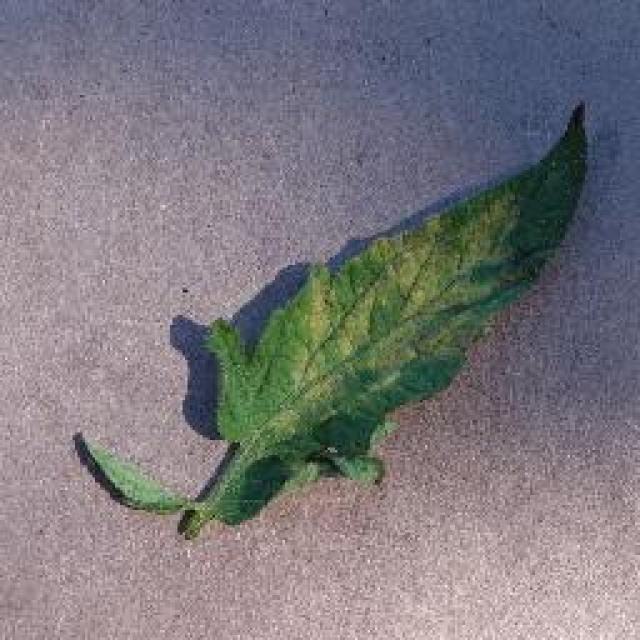Tomato mold leaf: (195, 105, 583, 530)
